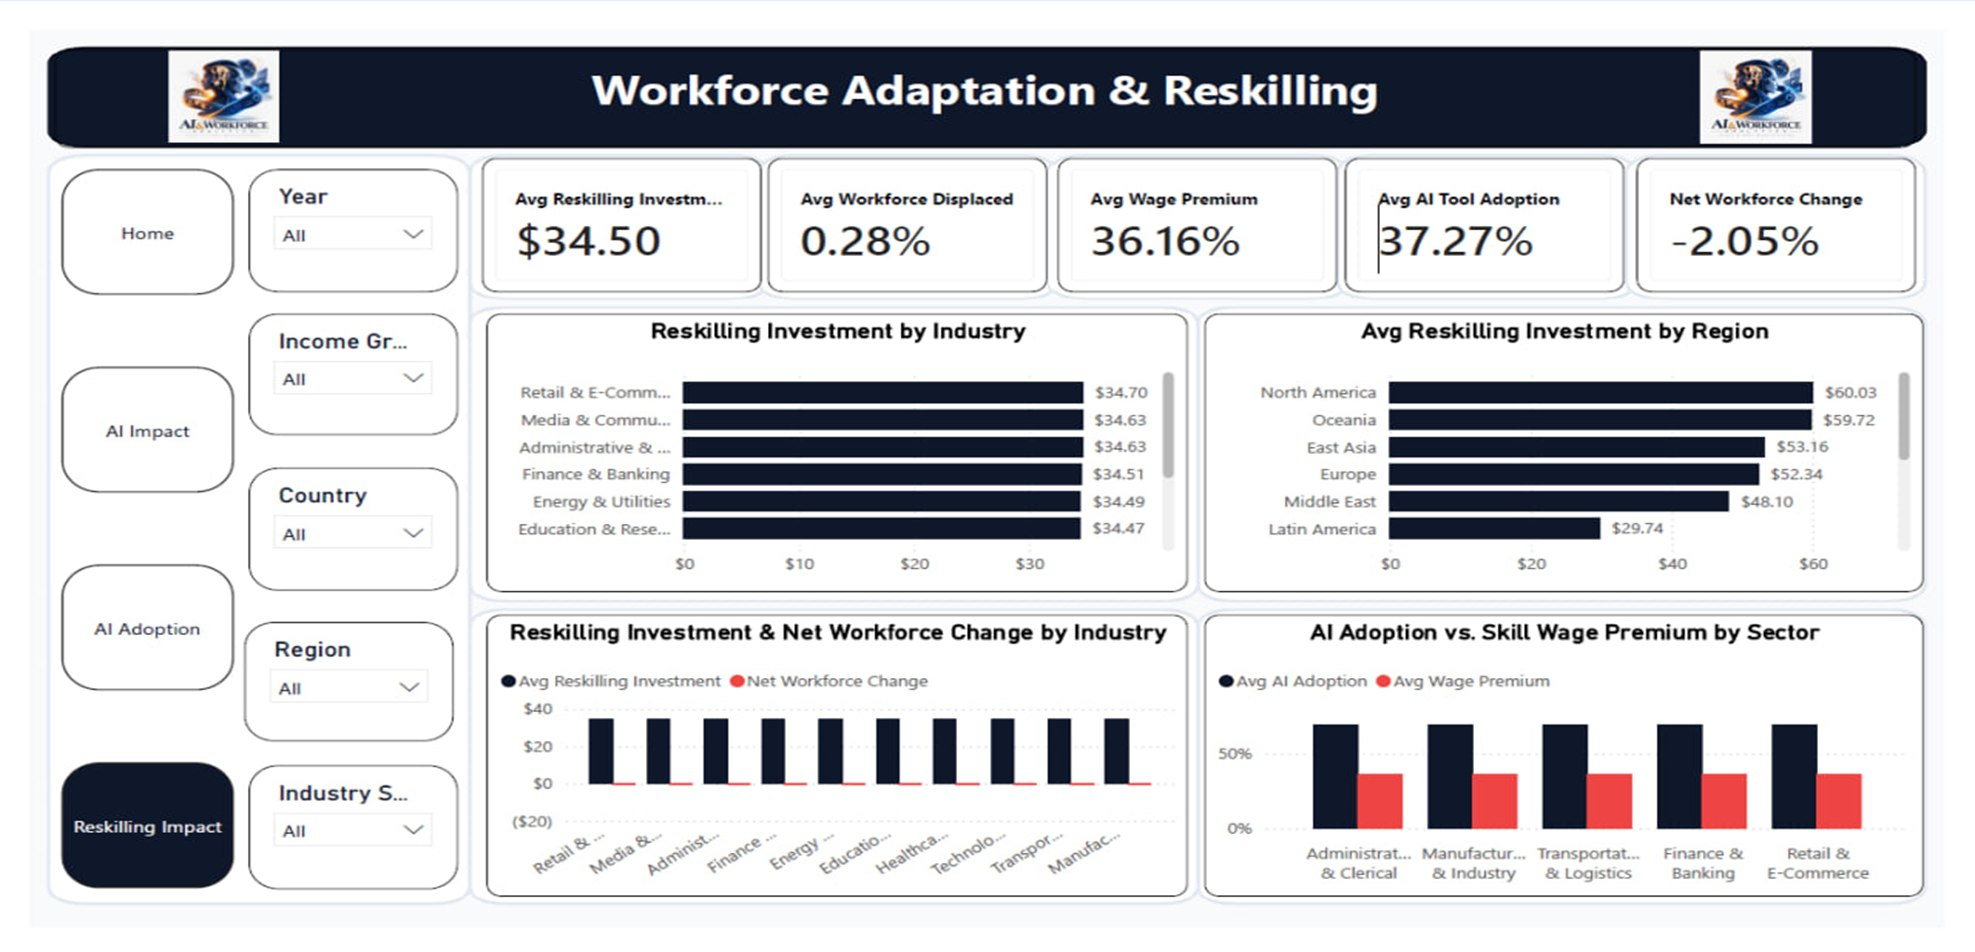

Layout of this report page (visuals, bound fields, positions):
{"tool":"powerbi","page":{"name":"Reskilling Impact","canvas":[1280,720],"ordinal":3},"visuals":[{"type":"clusteredBarChart","title":"Reskilling Investment by Industry","fields":{"Category":["ai_workforce_displacement_clean.industry_sector"],"Y":["Measures 1.Avg Reskilling Investment"]},"box":[304.7,226.8,469.1,223.9],"z":0},{"type":"cardVisual","fields":{"Data":["Measures 1.Net Workforce Change"]},"box":[1074.3,102,187.1,107.7],"z":1000},{"type":"clusteredBarChart","title":"Avg Reskilling Investment by Region","fields":{"Category":["ai_workforce_displacement_clean.region"],"Y":["Measures 1.Avg Reskilling Investment"]},"box":[785.2,226.8,480.5,223.9],"z":2000},{"type":"textbox","box":[15.7,15,1245.7,78.6],"z":3000},{"type":"pageNavigator","box":[15.7,111.4,120,580],"z":4000},{"type":"slicer","fields":{"Values":["ai_workforce_displacement_clean.year"]},"box":[145.7,111.4,140,98.6],"z":5000},{"type":"slicer","fields":{"Values":["ai_workforce_displacement_clean.region"]},"box":[143.1,474.8,140,95.7],"z":6000},{"type":"slicer","fields":{"Values":["ai_workforce_displacement_clean.industry_sector"]},"box":[146,589.6,140,100],"z":7000},{"type":"cardVisual","fields":{"Data":["Measures 1.Avg AI Tool Adoption"]},"box":[878.7,102,187.1,107.7],"z":8000},{"type":"cardVisual","fields":{"Data":["Measures 1.Avg Wage Premium"]},"box":[687.4,102,187.1,107.7],"z":9000},{"type":"cardVisual","fields":{"Data":["Measures 1.Avg Workforce Displaced"]},"box":[493.2,102,187.1,107.7],"z":10000},{"type":"cardVisual","fields":{"Data":["Measures 1.Avg Reskilling Investment"]},"box":[301.9,102,187.1,107.7],"z":11000},{"type":"clusteredColumnChart","title":"Reskilling Investment & Net Workforce Change by Industry","fields":{"Y":["Measures 1.Avg Reskilling Investment","Measures 1.Net Workforce Change"],"Category":["ai_workforce_displacement_clean.industry_sector"]},"box":[304.7,469.1,469.1,226.8],"z":12000},{"type":"lineClusteredColumnComboChart","title":"AI Adoption vs. Skill Wage Premium by Sector","fields":{"Category":["ai_workforce_displacement_clean.industry_sector"],"Y":["Measures 1.Avg AI Adoption","Measures 1.Avg Wage Premium"]},"box":[785.2,469.1,480.5,226.8],"z":13000},{"type":"slicer","fields":{"Values":["ai_workforce_displacement_clean.income_group"]},"box":[146,226.8,140,98.6],"z":14000},{"type":"slicer","fields":{"Values":["ai_workforce_displacement_clean.country"]},"box":[146,351.5,140,98.6],"z":15000},{"type":"image","box":[1100,15.7,107.1,74.3],"z":16000},{"type":"image","box":[75.1,15.6,107.7,73.7],"z":17000}]}

Visuals, with their boxes on the page's 1280x720 design canvas (x1, y1, x2, y2). These are canvas units, not pixel positions in the 1975x952 screenshot, which may show the page scaled, cropped or inside an application window:
"Reskilling Investment by Industry" clusteredBarChart: {"x1": 305, "y1": 227, "x2": 774, "y2": 451}
cardVisual - Measures 1.Net Workforce Change: {"x1": 1074, "y1": 102, "x2": 1261, "y2": 210}
"Avg Reskilling Investment by Region" clusteredBarChart: {"x1": 785, "y1": 227, "x2": 1266, "y2": 451}
textbox: {"x1": 16, "y1": 15, "x2": 1261, "y2": 94}
pageNavigator: {"x1": 16, "y1": 111, "x2": 136, "y2": 691}
slicer - ai_workforce_displacement_clean.year: {"x1": 146, "y1": 111, "x2": 286, "y2": 210}
slicer - ai_workforce_displacement_clean.region: {"x1": 143, "y1": 475, "x2": 283, "y2": 570}
slicer - ai_workforce_displacement_clean.industry_sector: {"x1": 146, "y1": 590, "x2": 286, "y2": 690}
cardVisual - Measures 1.Avg AI Tool Adoption: {"x1": 879, "y1": 102, "x2": 1066, "y2": 210}
cardVisual - Measures 1.Avg Wage Premium: {"x1": 687, "y1": 102, "x2": 874, "y2": 210}
cardVisual - Measures 1.Avg Workforce Displaced: {"x1": 493, "y1": 102, "x2": 680, "y2": 210}
cardVisual - Measures 1.Avg Reskilling Investment: {"x1": 302, "y1": 102, "x2": 489, "y2": 210}
"Reskilling Investment & Net Workforce Change by Industry" clusteredColumnChart: {"x1": 305, "y1": 469, "x2": 774, "y2": 696}
"AI Adoption vs. Skill Wage Premium by Sector" lineClusteredColumnComboChart: {"x1": 785, "y1": 469, "x2": 1266, "y2": 696}
slicer - ai_workforce_displacement_clean.income_group: {"x1": 146, "y1": 227, "x2": 286, "y2": 325}
slicer - ai_workforce_displacement_clean.country: {"x1": 146, "y1": 352, "x2": 286, "y2": 450}
image: {"x1": 1100, "y1": 16, "x2": 1207, "y2": 90}
image: {"x1": 75, "y1": 16, "x2": 183, "y2": 89}
